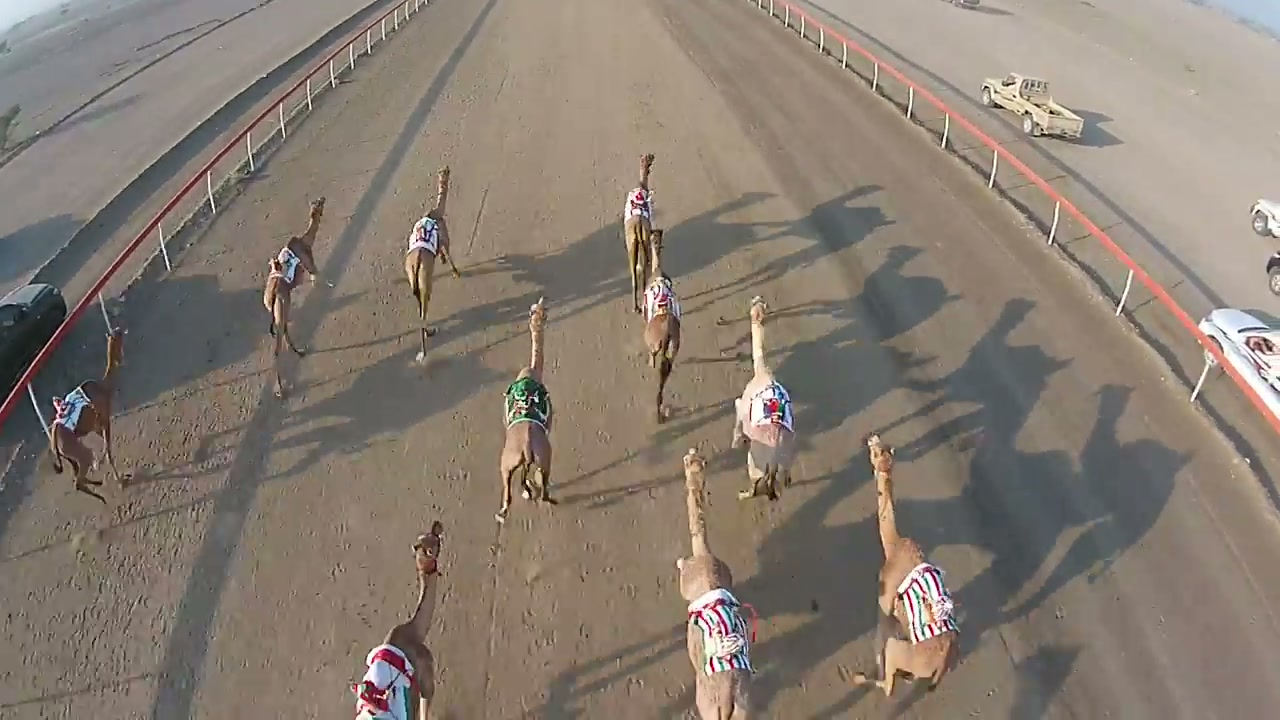animal_foot_print: (29, 367, 289, 697), (539, 307, 693, 719)
